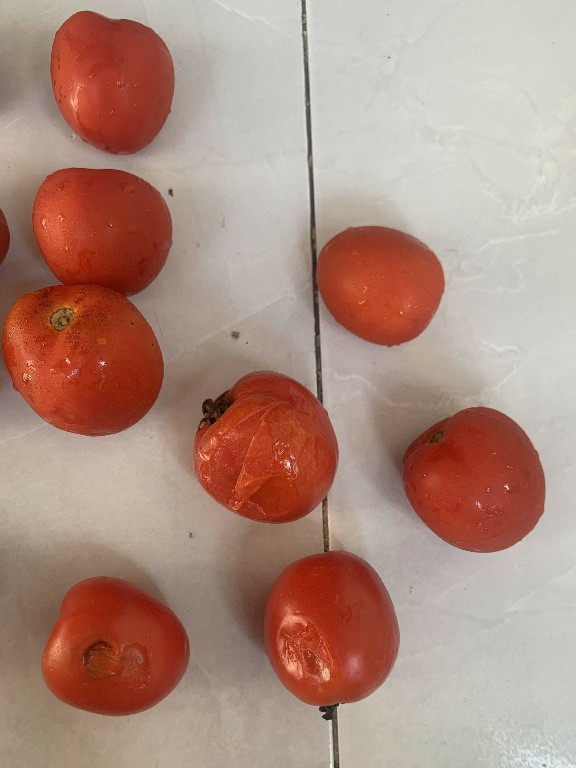NG: (250, 542, 409, 721), (178, 364, 343, 526), (36, 561, 201, 705)
OK: (397, 389, 562, 565), (0, 281, 164, 439), (23, 159, 179, 301), (46, 2, 181, 161), (306, 213, 452, 352)
